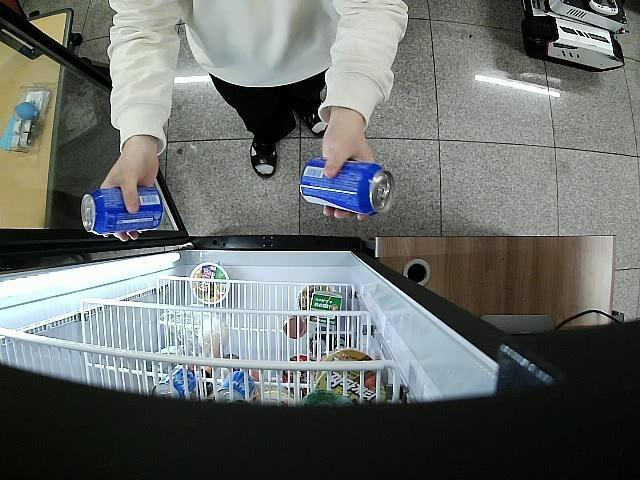13_pocariSweat: (298, 156, 397, 216), (80, 186, 164, 236)
